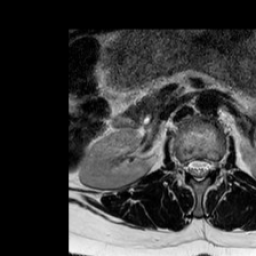CCS_normal: (195, 148, 202, 189)
LFS_normal: (210, 150, 219, 176)
LLS_normal: (202, 149, 210, 183)
RFS_normal: (179, 150, 187, 180)
RLS_normal: (186, 149, 195, 184)
